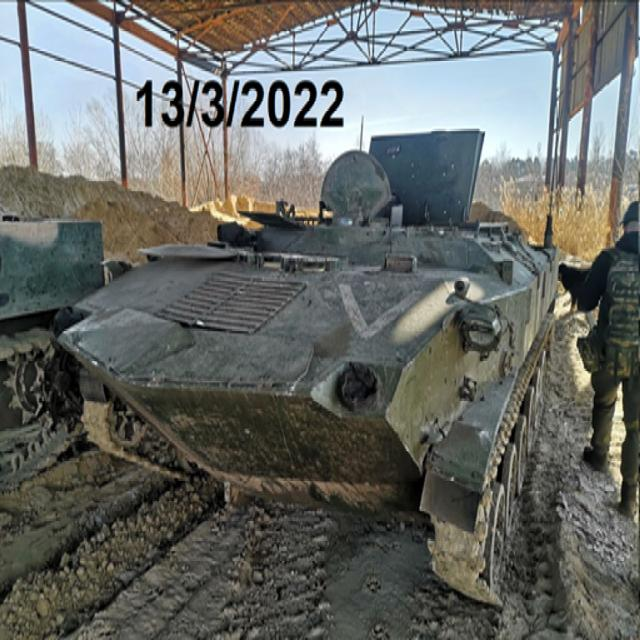APC-IFV: (62, 124, 568, 616)
